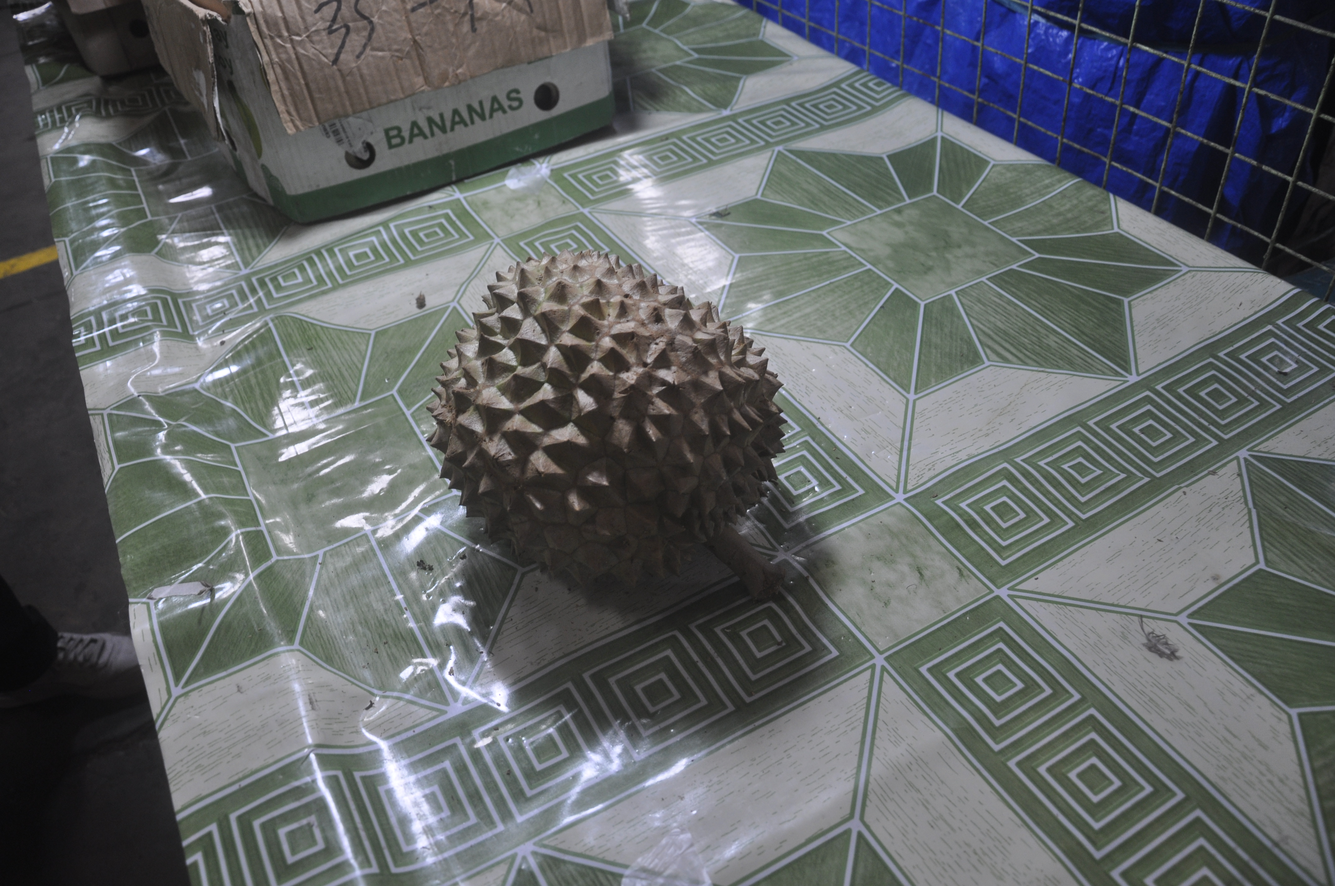mature: (430, 251, 784, 583)
